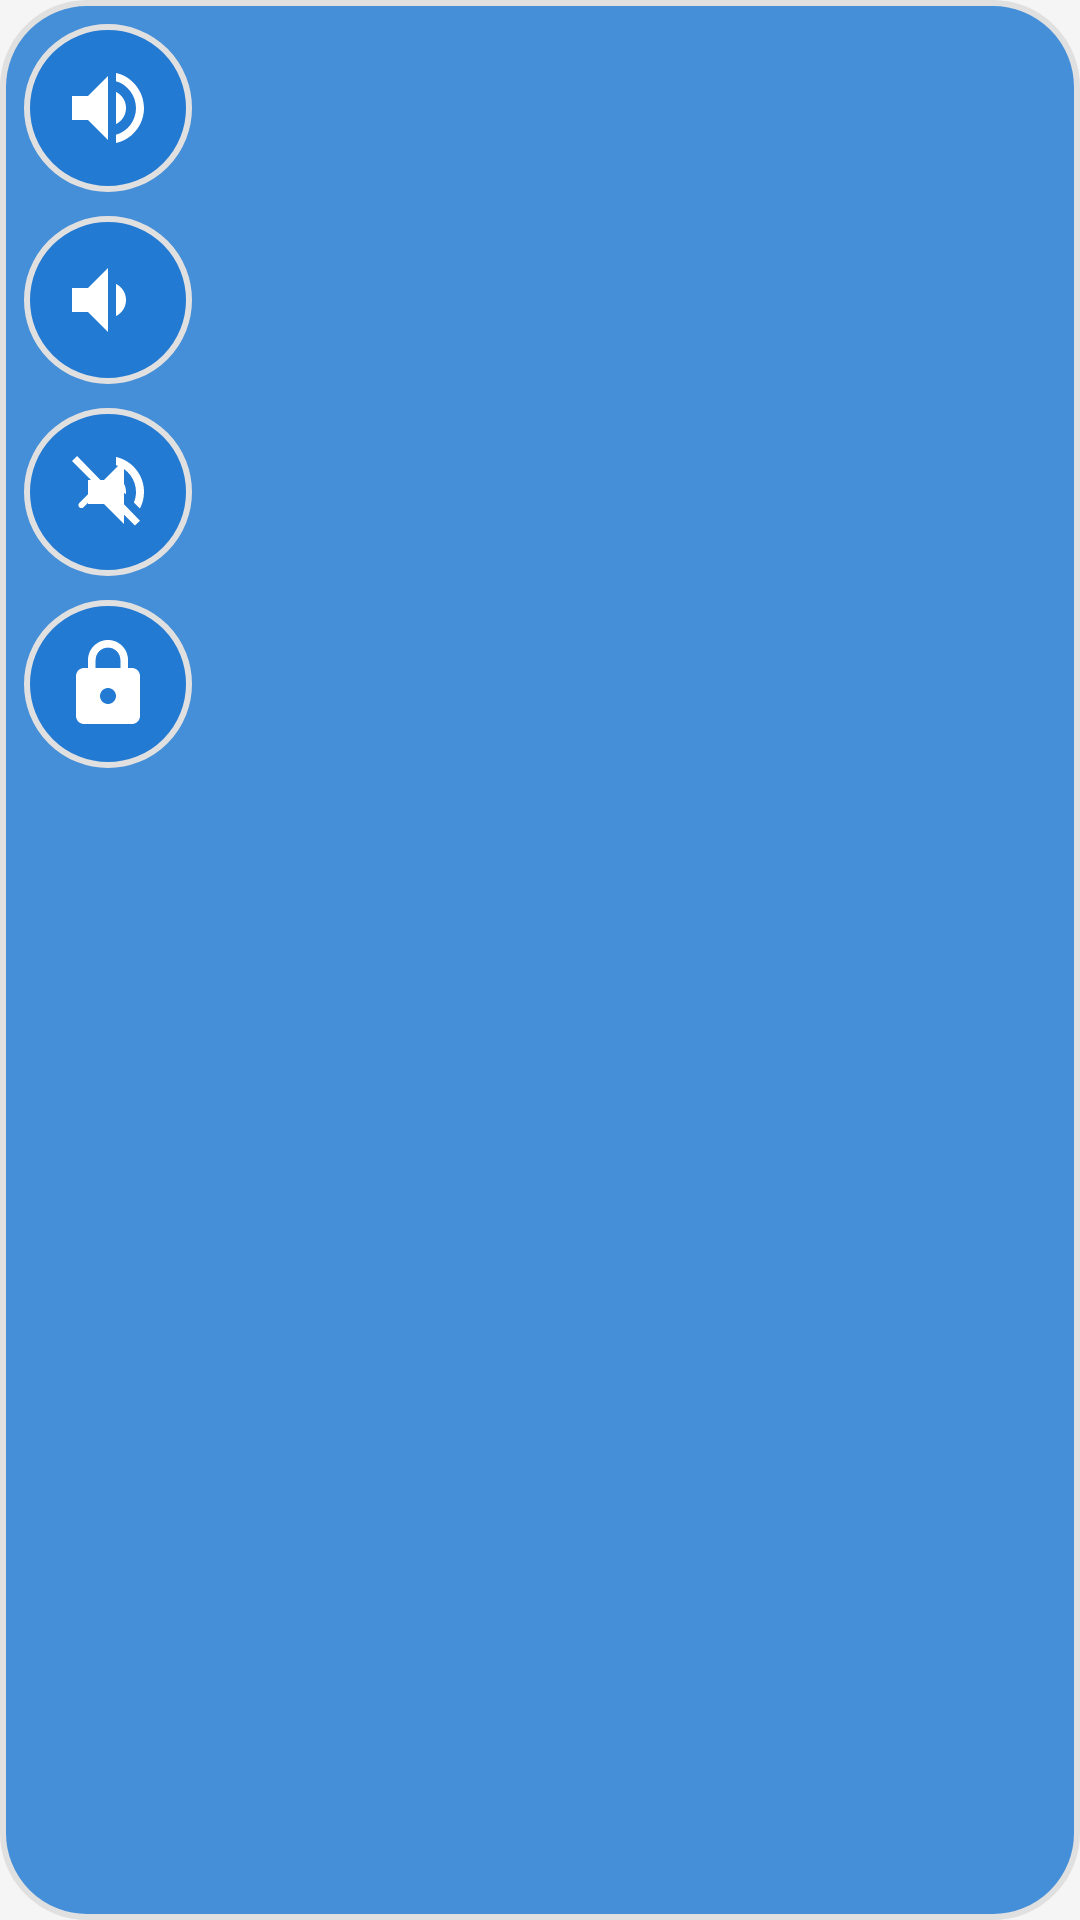

Where icons sit on this 1080 × 1920 app screen, as (x1, y1, x2, y2):
Lock Screen: (24, 600, 192, 768)
Mute/Unmute: (24, 408, 192, 576)
Volume Down: (24, 216, 192, 384)
Volume Up: (24, 24, 192, 192)
